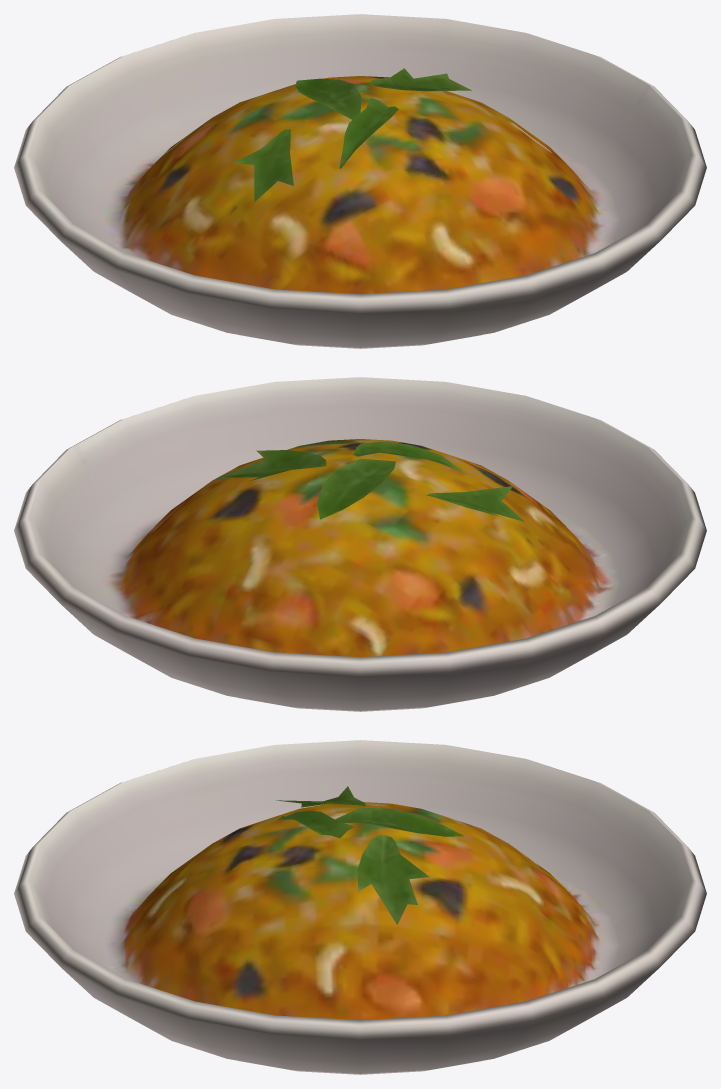
The picture shows the model from 3 angles, top to bottom: view 1: azimuth 30°, elevation 25°; view 2: azimuth 150°, elevation 25°; view 3: azimuth 270°, elevation 25°; orthographic projection.
Bounding box in the file's own units: 7.11 × 1.7 × 7.11.
1 material, 1 textured.
